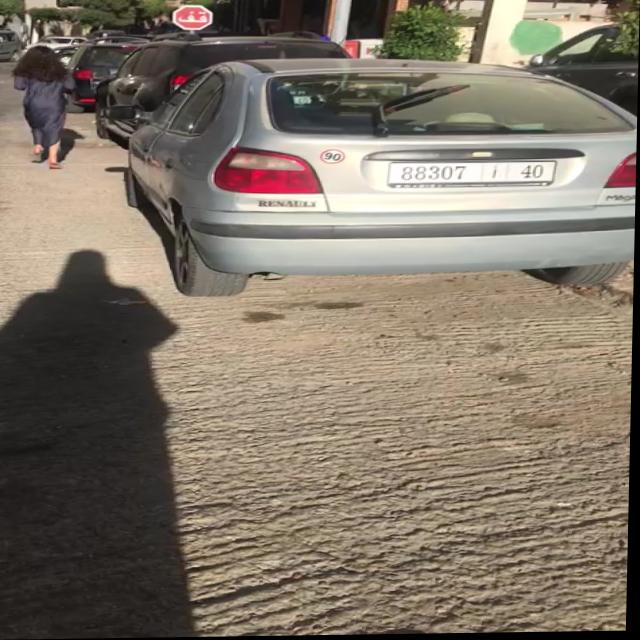License-Plate: (390, 162, 558, 189)
